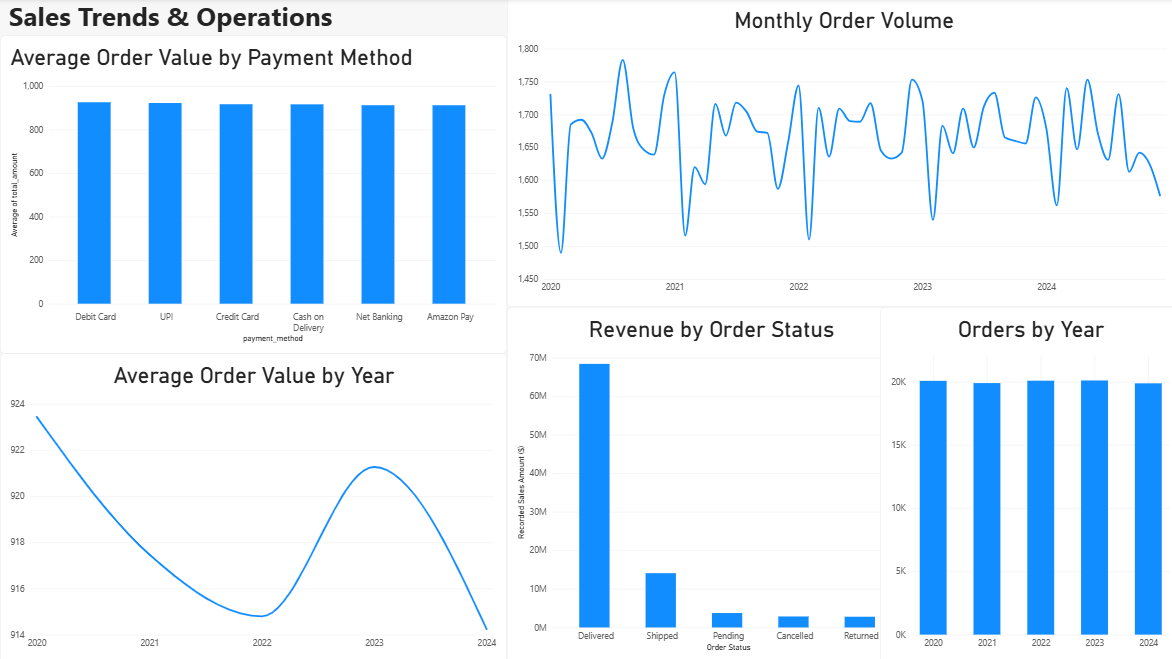

Layout of this report page (visuals, bound fields, positions):
{"tool":"powerbi","page":{"name":"Sales","canvas":[1920,1080],"ordinal":3},"visuals":[{"type":"clusteredColumnChart","title":"\tAverage Order Value by Payment Method","fields":{"Category":["public amazon_sales.payment_method"],"Y":["Avg(public amazon_sales.total_amount)"]},"box":[0,61,824.7,517.2],"z":0},{"type":"lineChart","title":"Average Order Value by Year","fields":{"Category":["public amazon_sales.order_date.Variation.Date Hierarchy.Year"],"Y":["Avg(public amazon_sales.total_amount)"]},"box":[0,578.2,824.7,502.6],"z":2000},{"type":"lineChart","title":"\tMonthly Order Volume","fields":{"Category":["public amazon_sales.order_date.Variation.Date Hierarchy.Year","public amazon_sales.order_date.Variation.Date Hierarchy.Month"],"Y":["CountNonNull(public amazon_sales.order_id)"]},"box":[824.7,0,1095.5,502.6],"z":3000},{"type":"clusteredColumnChart","title":"\tRevenue by Order Status","fields":{"Category":["public amazon_sales.order_status"],"Y":["Sum(public amazon_sales.total_amount)"]},"box":[824.7,502.6,663.6,578.2],"z":4000},{"type":"textbox","box":[2.4,0,956.4,300.1],"z":5000},{"type":"clusteredColumnChart","title":"Orders by Year","fields":{"Category":["public amazon_sales.order_date.Variation.Date Hierarchy.Year"],"Y":["CountNonNull(public amazon_sales.order_id)"]},"box":[1432.2,502.6,488,578.2],"z":5001}]}

Visuals, with their boxes in screenshot pixels (x1, y1, x2, y2), scaled from the page's 1920x1080 canvas onto the 1172x659 screenshot:
"	Average Order Value by Payment Method" clusteredColumnChart: 0 37 503 353
"Average Order Value by Year" lineChart: 0 353 503 658
"	Monthly Order Volume" lineChart: 503 0 1171 307
"	Revenue by Order Status" clusteredColumnChart: 503 307 908 658
textbox: 1 0 585 183
"Orders by Year" clusteredColumnChart: 874 307 1171 658
